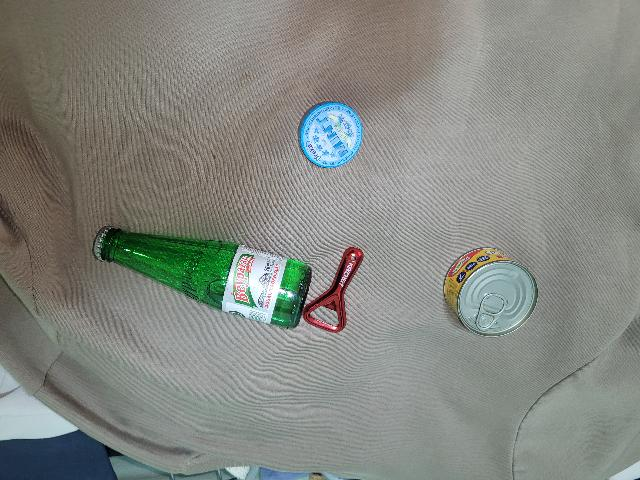Cam: (89, 217, 310, 340)
Metal: (444, 238, 539, 342), (301, 247, 360, 335), (299, 99, 364, 175)
